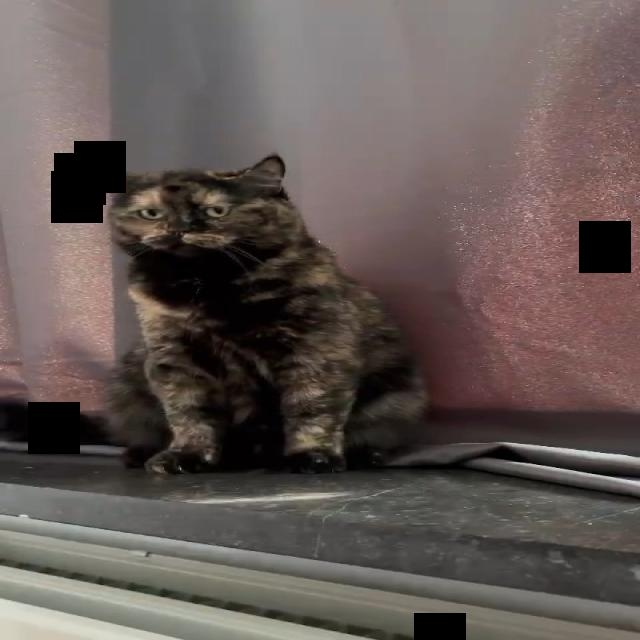authorized: (89, 152, 431, 475)
